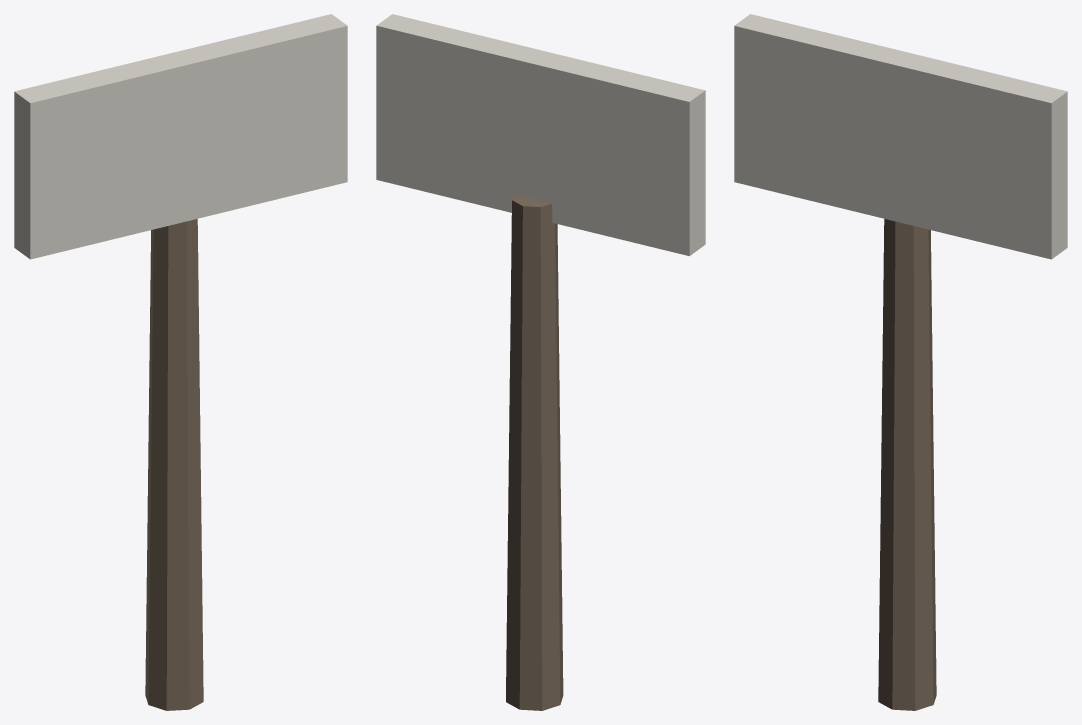
The model's file is TentPeg.fbx.
The picture shows the model from 3 angles, left to right: view 1: azimuth 30°, elevation 25°; view 2: azimuth 150°, elevation 25°; view 3: azimuth 330°, elevation 25°; orthographic projection.
Visible parts, largest first — view 1: TentPeg; view 2: TentPeg; view 3: TentPeg.
Boxes of the visible parts, bbox=[...] form: TentPeg: bbox=[14, 14, 347, 710]; TentPeg: bbox=[376, 14, 705, 710]; TentPeg: bbox=[734, 14, 1067, 710].
Bounding box in the file's own units: 34 × 66 × 5.6.
